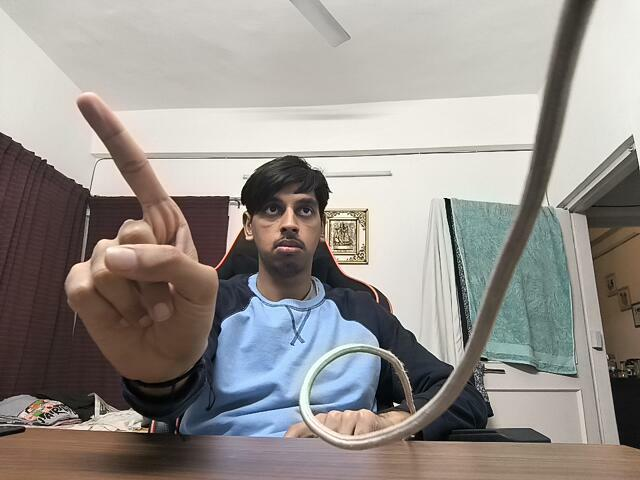UP: (54, 88, 232, 387)
